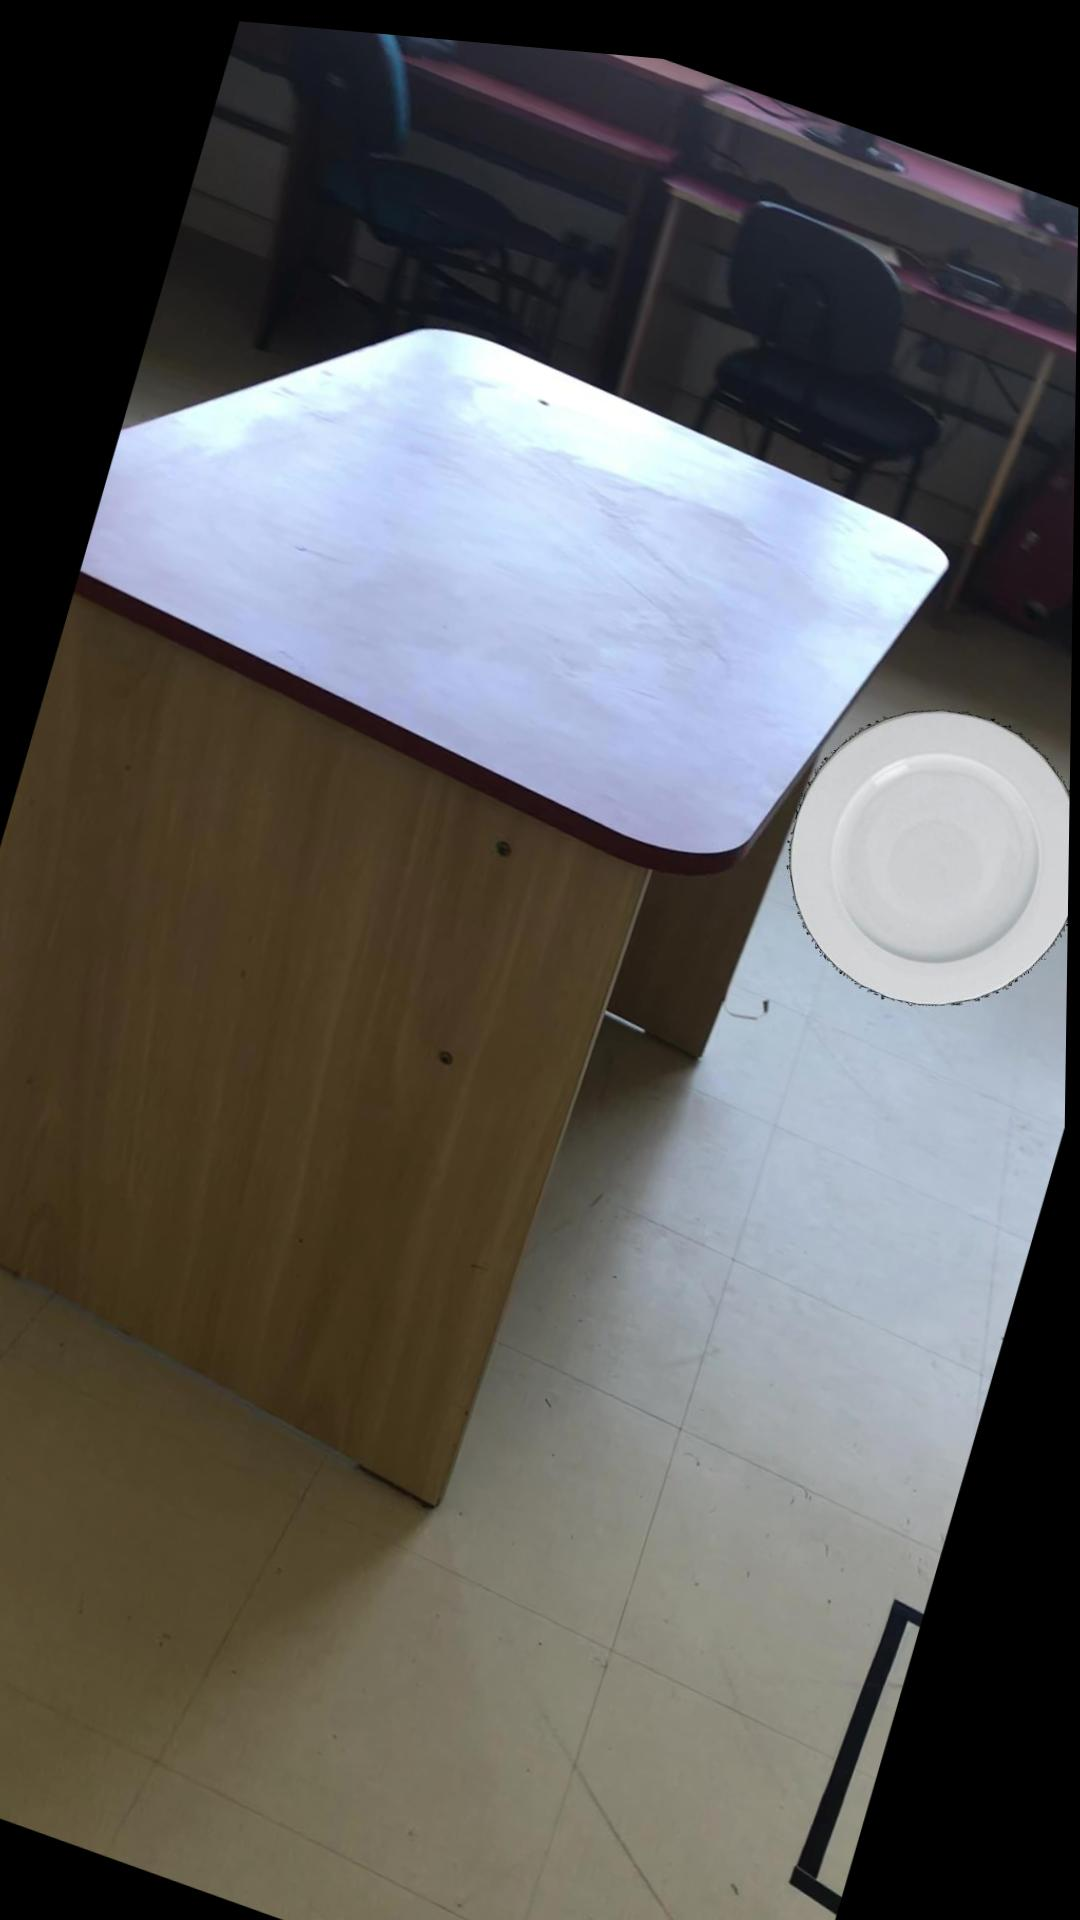plate: (793, 690, 1072, 985)
